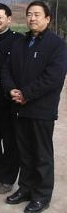boots: (6, 189, 30, 204), (0, 160, 9, 170)
